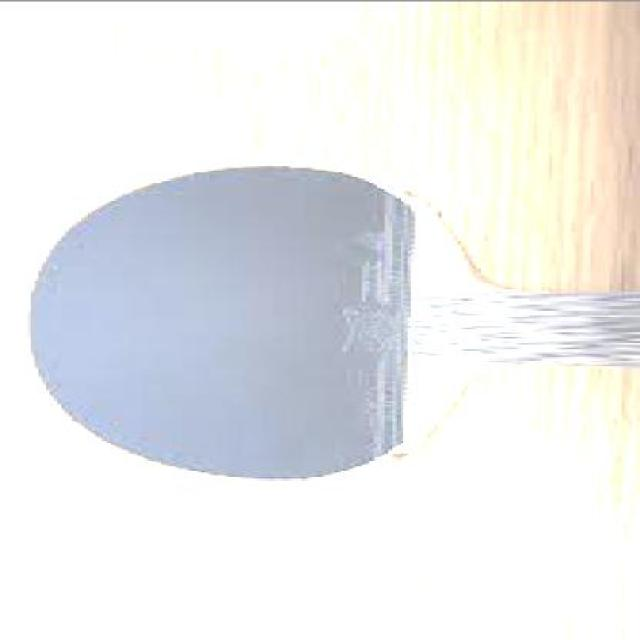table_tennis_racket: (18, 156, 474, 482)
